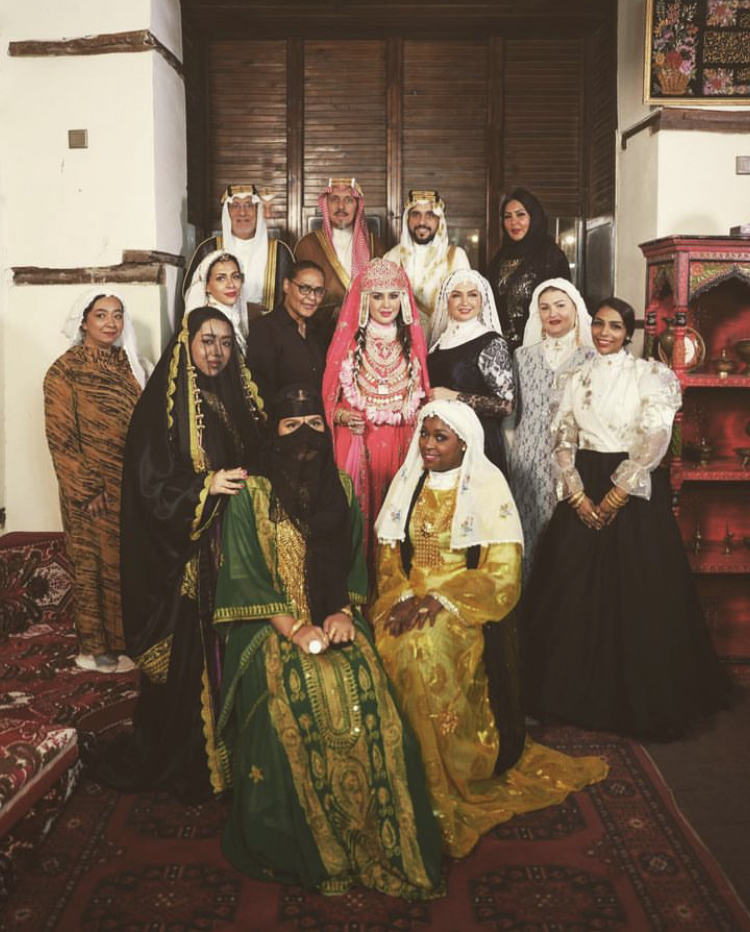Saudi_Founding_Day: (202, 384, 470, 905), (369, 395, 614, 864), (116, 302, 271, 817), (315, 254, 438, 531), (505, 272, 600, 565), (421, 264, 526, 471), (178, 175, 297, 340), (376, 184, 478, 344), (291, 171, 385, 317), (176, 247, 266, 368)
